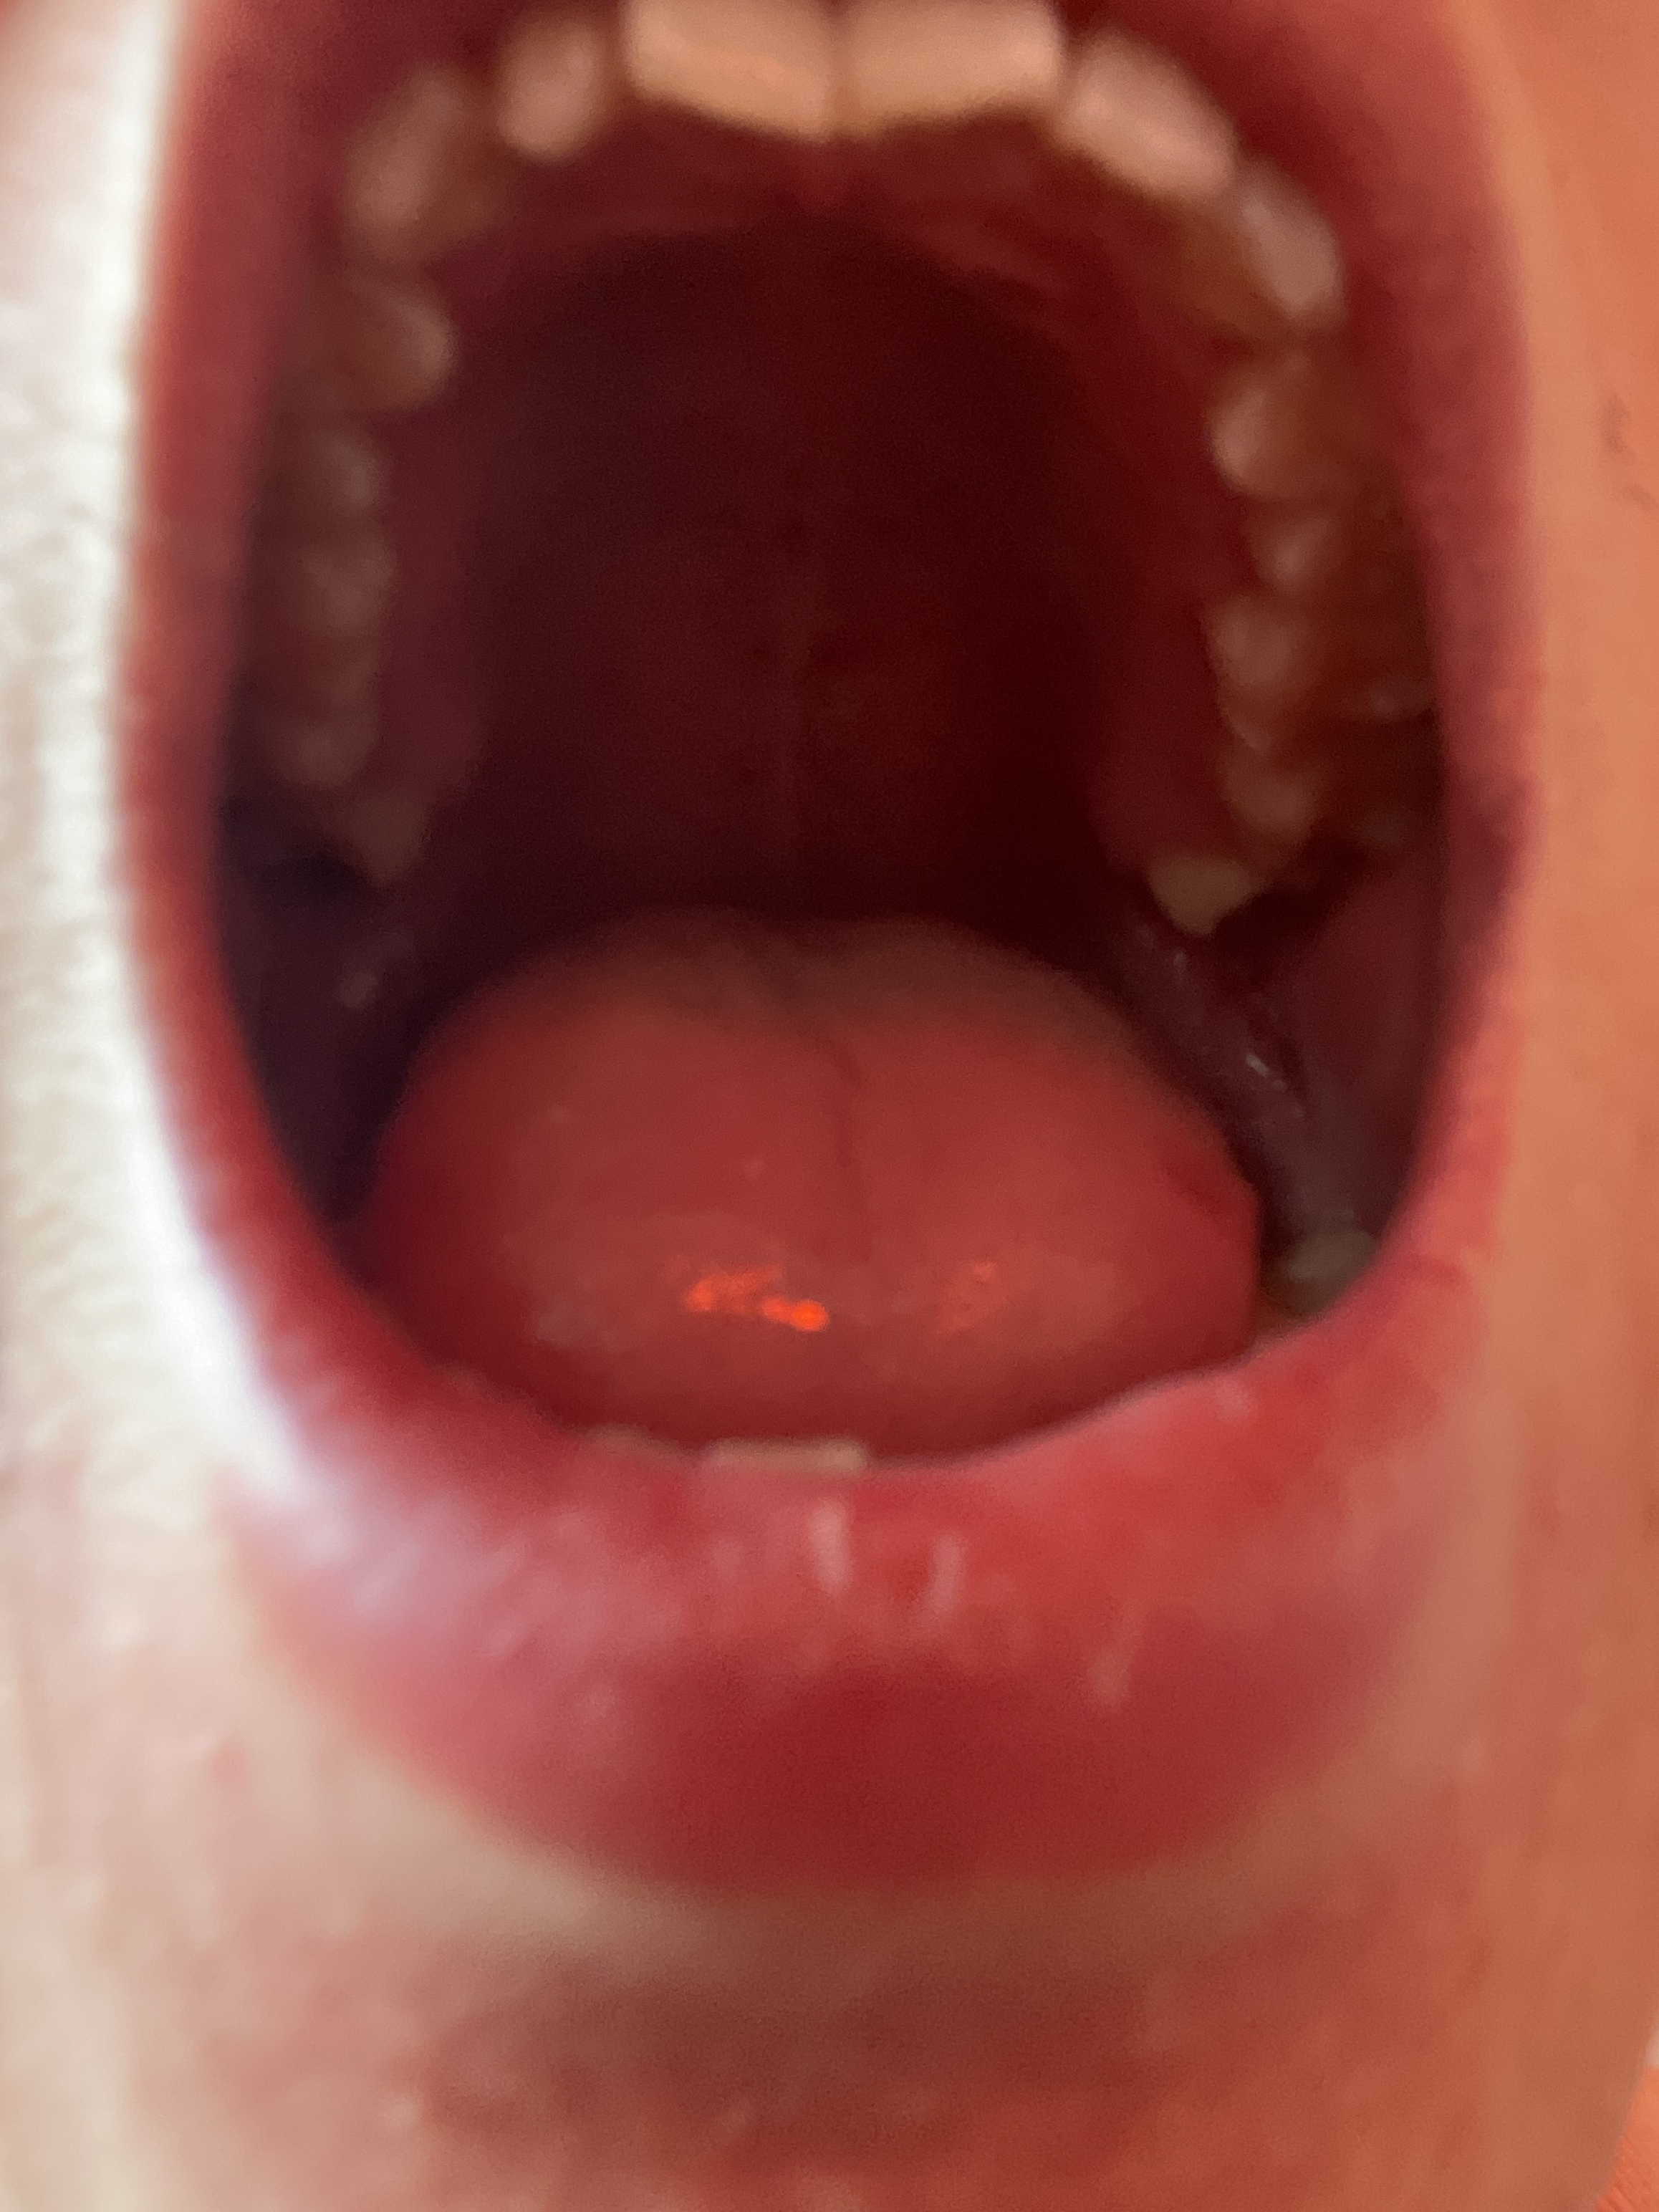teeth: (335, 77, 511, 260), (1204, 604, 1436, 742), (1058, 38, 1237, 206), (1180, 171, 1351, 340), (633, 10, 833, 150), (849, 2, 1056, 127), (1209, 359, 1382, 500), (1227, 747, 1420, 869), (277, 280, 450, 401), (256, 519, 382, 653), (249, 794, 418, 888), (272, 658, 376, 794), (509, 23, 613, 146), (1251, 507, 1403, 587), (288, 430, 375, 529)
